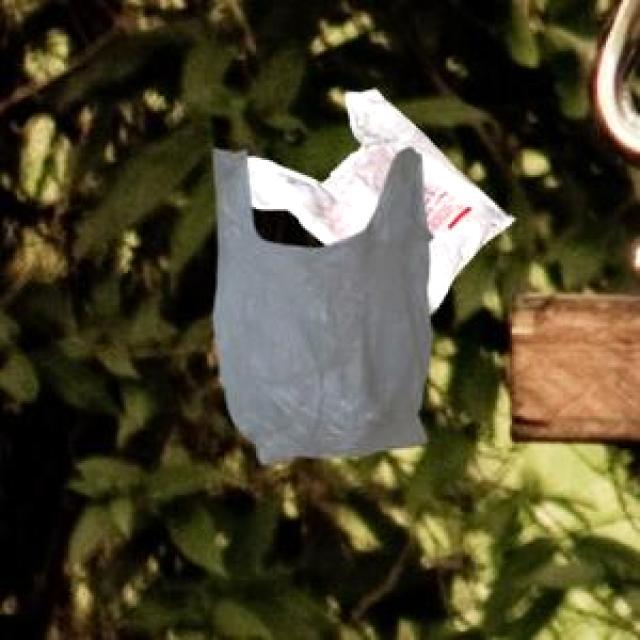Plastic_Bag: (210, 144, 430, 462), (244, 87, 511, 310)
